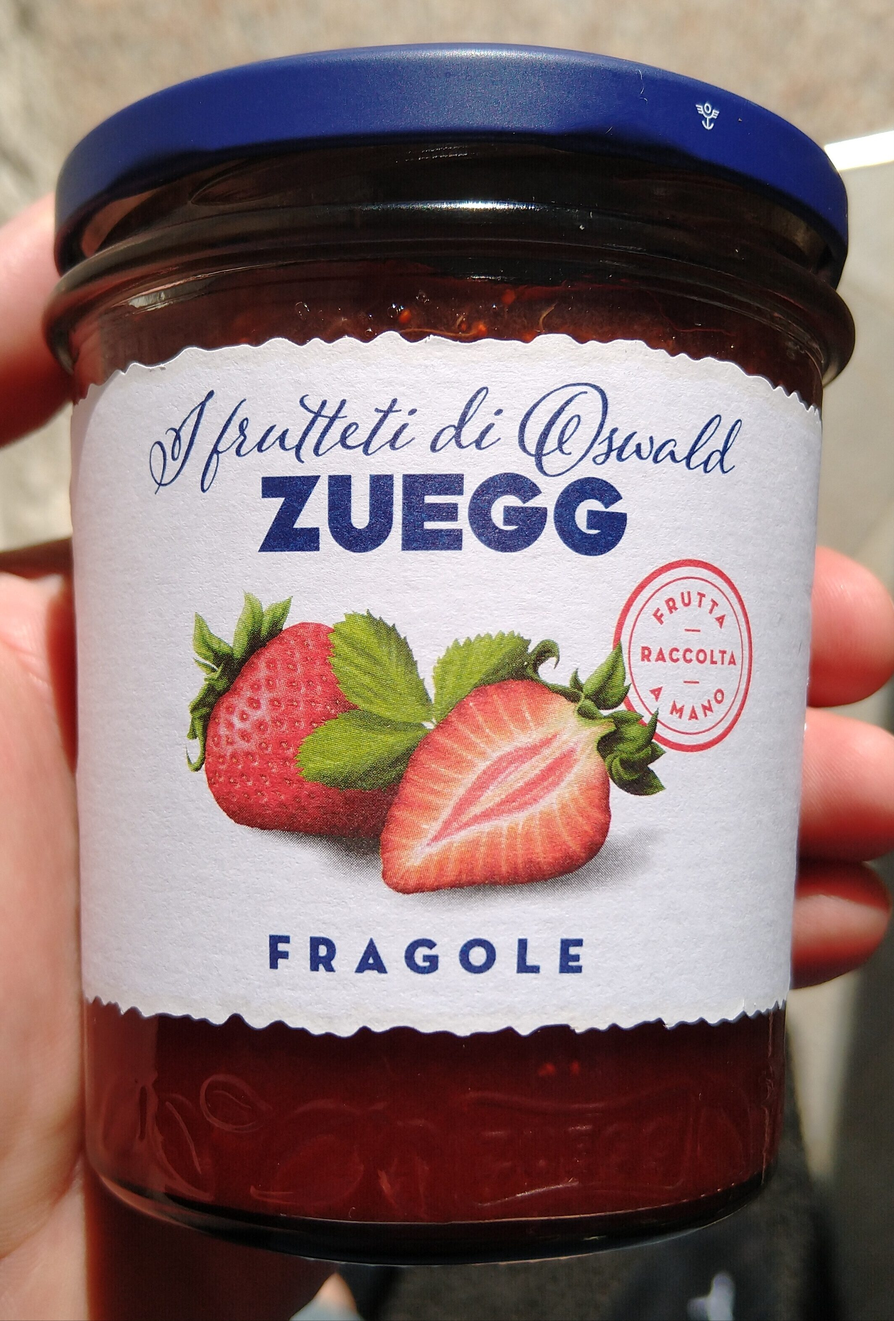Confettura extra fragole: (45, 66, 849, 1255)
